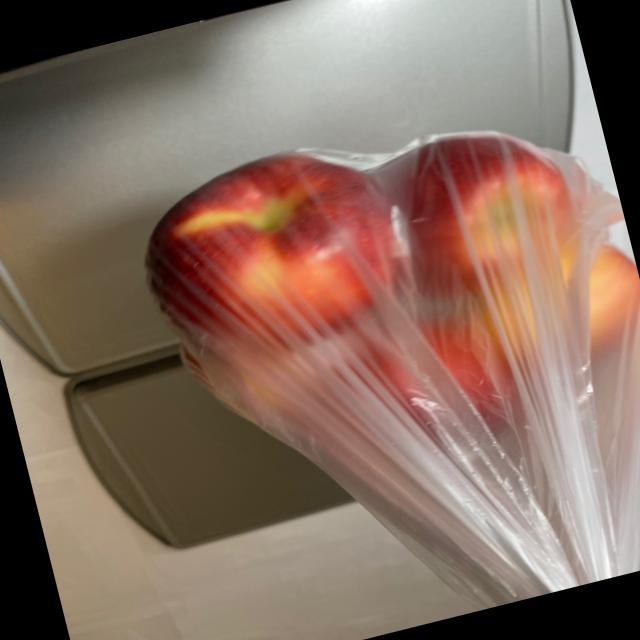apple: (116, 72, 640, 545)
